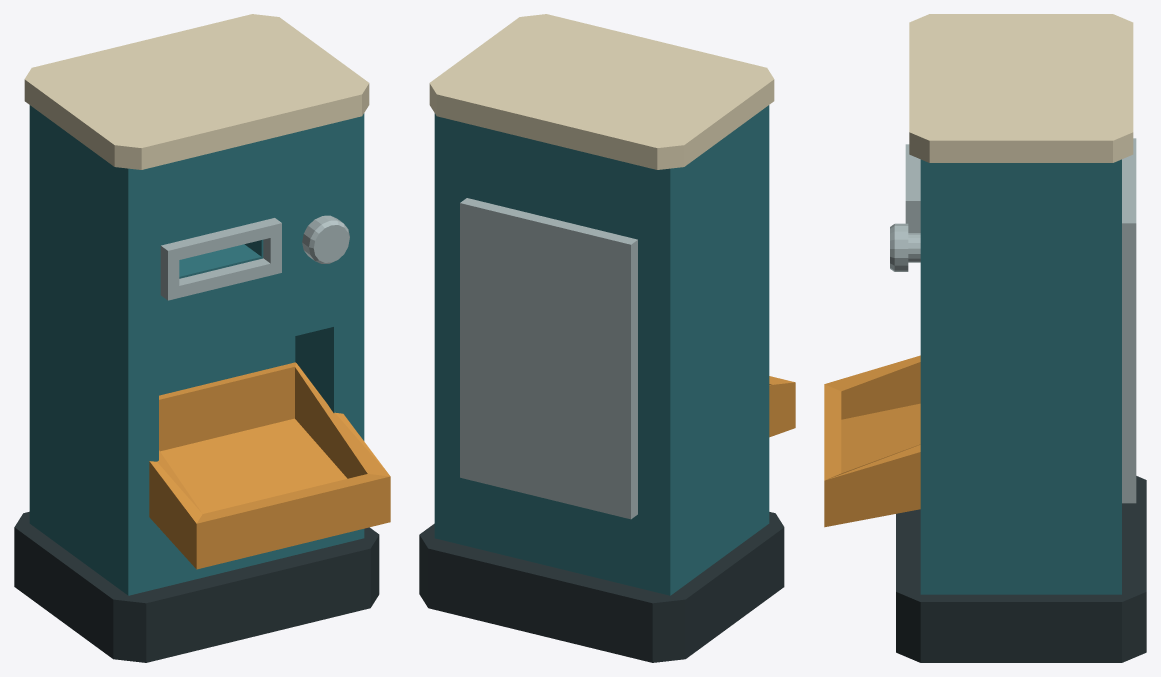
3 views of the same model, side by side, from view 1: azimuth 30°, elevation 25°; view 2: azimuth 150°, elevation 25°; view 3: azimuth 270°, elevation 25° (orthographic).
Parts seen in each view (by area): view 1: Housing_BlindRecessCabinet, Receiver_ThickSlopedScoop, Top_ChamferedCap, Plinth_FiniteGroundBase, Input_TrueOpenBezel, Control_FixedSteppedKnob; view 2: Housing_BlindRecessCabinet, Rear_ClosedServicePlate, Top_ChamferedCap, Plinth_FiniteGroundBase, Receiver_ThickSlopedScoop; view 3: Housing_BlindRecessCabinet, Top_ChamferedCap, Plinth_FiniteGroundBase, Receiver_ThickSlopedScoop, Rear_ClosedServicePlate, Control_FixedSteppedKnob, Input_TrueOpenBezel.
Part boxes in pixels (x1=…): Housing_BlindRecessCabinet: x1=29, y1=105, x2=364, y2=595; Receiver_ThickSlopedScoop: x1=149, y1=362, x2=390, y2=569; Top_ChamferedCap: x1=24, y1=14, x2=369, y2=169; Plinth_FiniteGroundBase: x1=14, y1=511, x2=379, y2=662; Input_TrueOpenBezel: x1=160, y1=218, x2=281, y2=300; Control_FixedSteppedKnob: x1=302, y1=215, x2=349, y2=263; Housing_BlindRecessCabinet: x1=434, y1=105, x2=769, y2=595; Rear_ClosedServicePlate: x1=460, y1=198, x2=637, y2=519; Top_ChamferedCap: x1=429, y1=14, x2=774, y2=169; Plinth_FiniteGroundBase: x1=419, y1=512, x2=784, y2=662; Receiver_ThickSlopedScoop: x1=769, y1=376, x2=795, y2=437; Housing_BlindRecessCabinet: x1=920, y1=159, x2=1121, y2=594; Top_ChamferedCap: x1=909, y1=14, x2=1133, y2=162; Plinth_FiniteGroundBase: x1=896, y1=476, x2=1146, y2=662; Receiver_ThickSlopedScoop: x1=824, y1=355, x2=920, y2=527; Rear_ClosedServicePlate: x1=1122, y1=138, x2=1136, y2=503; Control_FixedSteppedKnob: x1=890, y1=223, x2=920, y2=271; Input_TrueOpenBezel: x1=905, y1=144, x2=920, y2=232.
Size of the model in its own units: 0.7 by 1.28 by 0.72.
